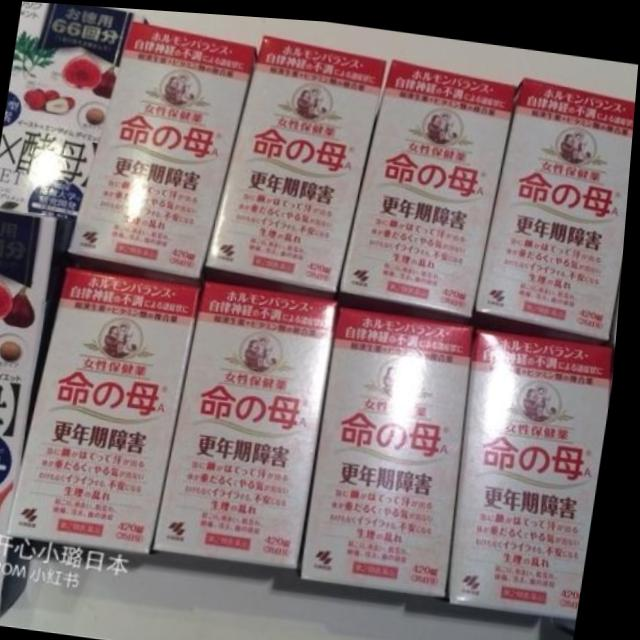box: (14, 269, 203, 552), (161, 278, 343, 563), (309, 301, 478, 591), (72, 19, 255, 277), (458, 320, 620, 607), (210, 29, 389, 286), (342, 51, 516, 309), (479, 69, 636, 331)
